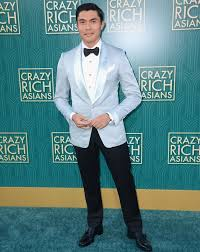asian_male: (74, 14, 108, 42)
